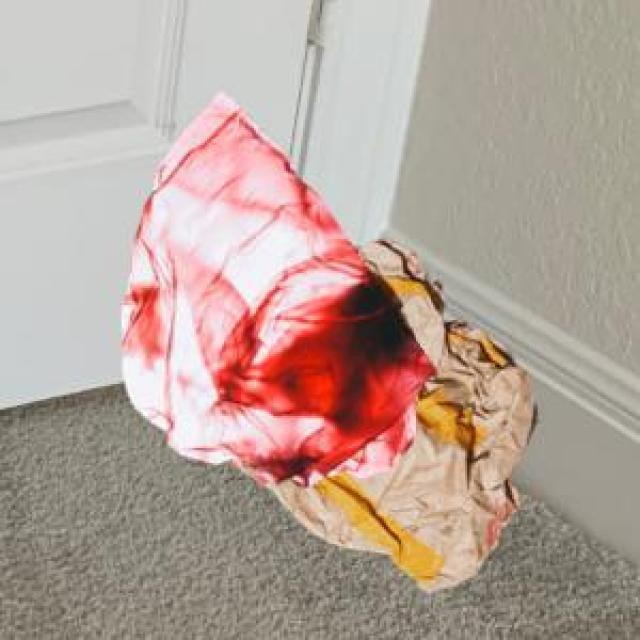paper: (224, 235, 533, 589)
